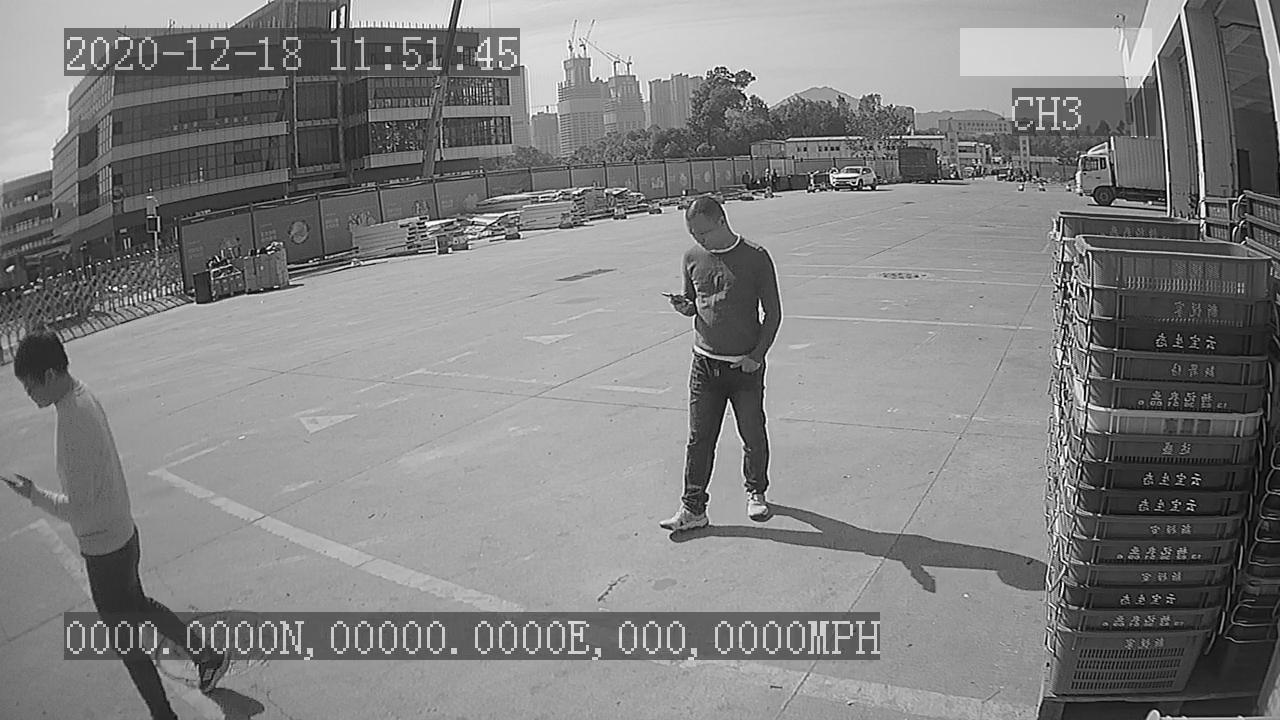person: (651, 186, 790, 536)
